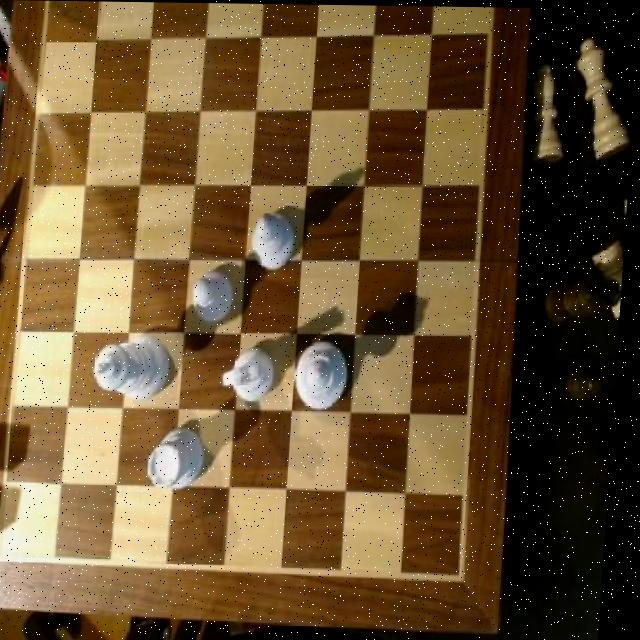black-rook: (249, 208, 297, 272)
white-bishop: (98, 329, 174, 402)
white-king: (224, 344, 284, 405)
white-knight: (191, 268, 237, 326)
white-pawn: (297, 339, 355, 413)
white-queen: (151, 424, 210, 496)
